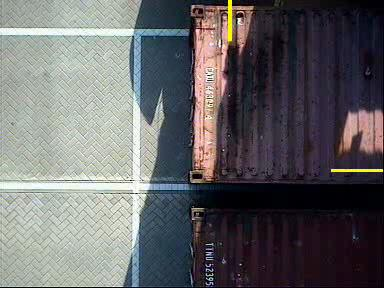groundmarker_2: (118, 61, 217, 135)
